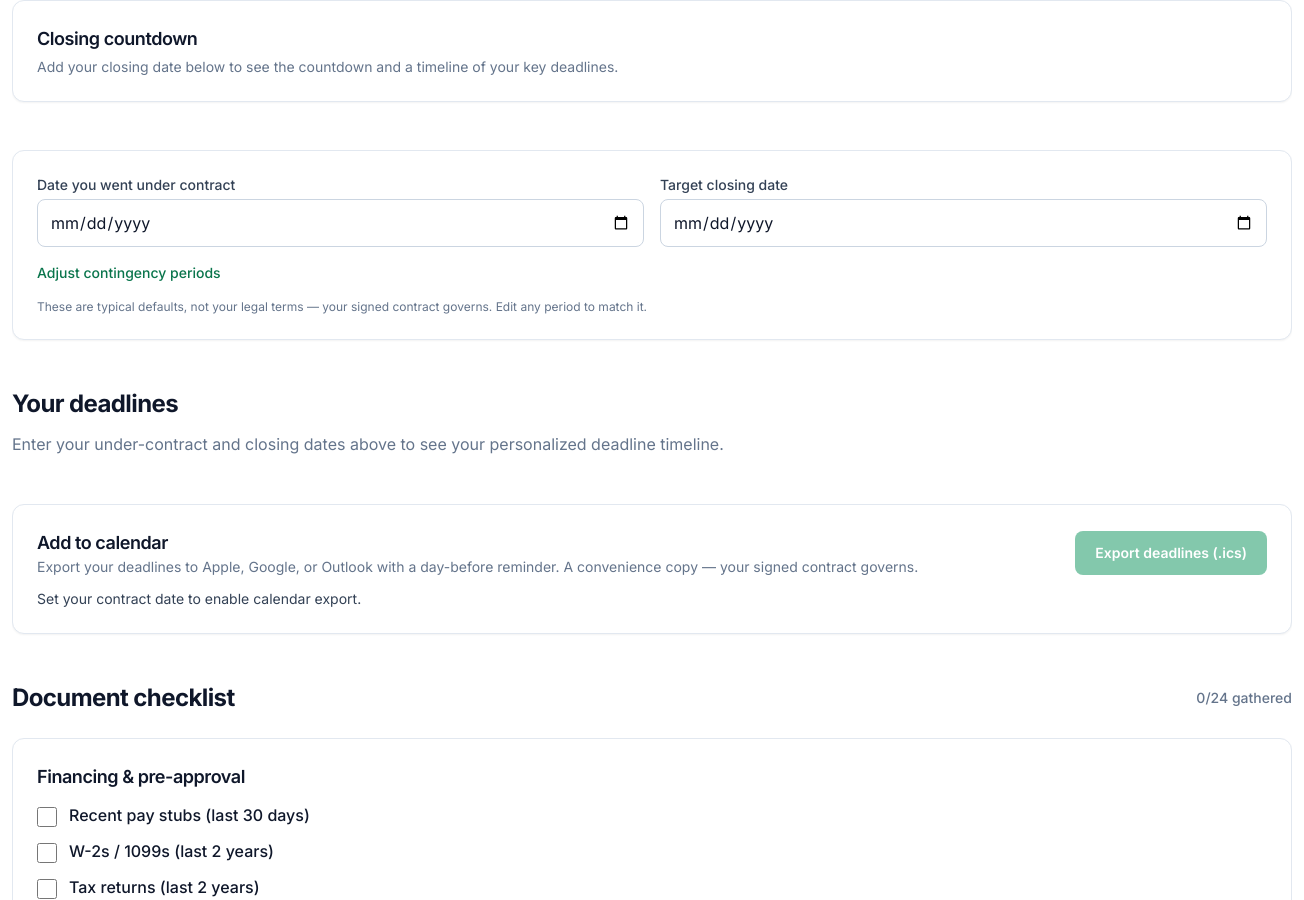
Test: TrackerApp › builds the deadline timeline once both ordered dates are set
Expected: the text "Enter your under-contract and closing dates above" is shown, [12,434,724,454]
Type "2026-07-01" into the date field labelled "Date you went under contract" at (340,223), box [37,199,644,247]
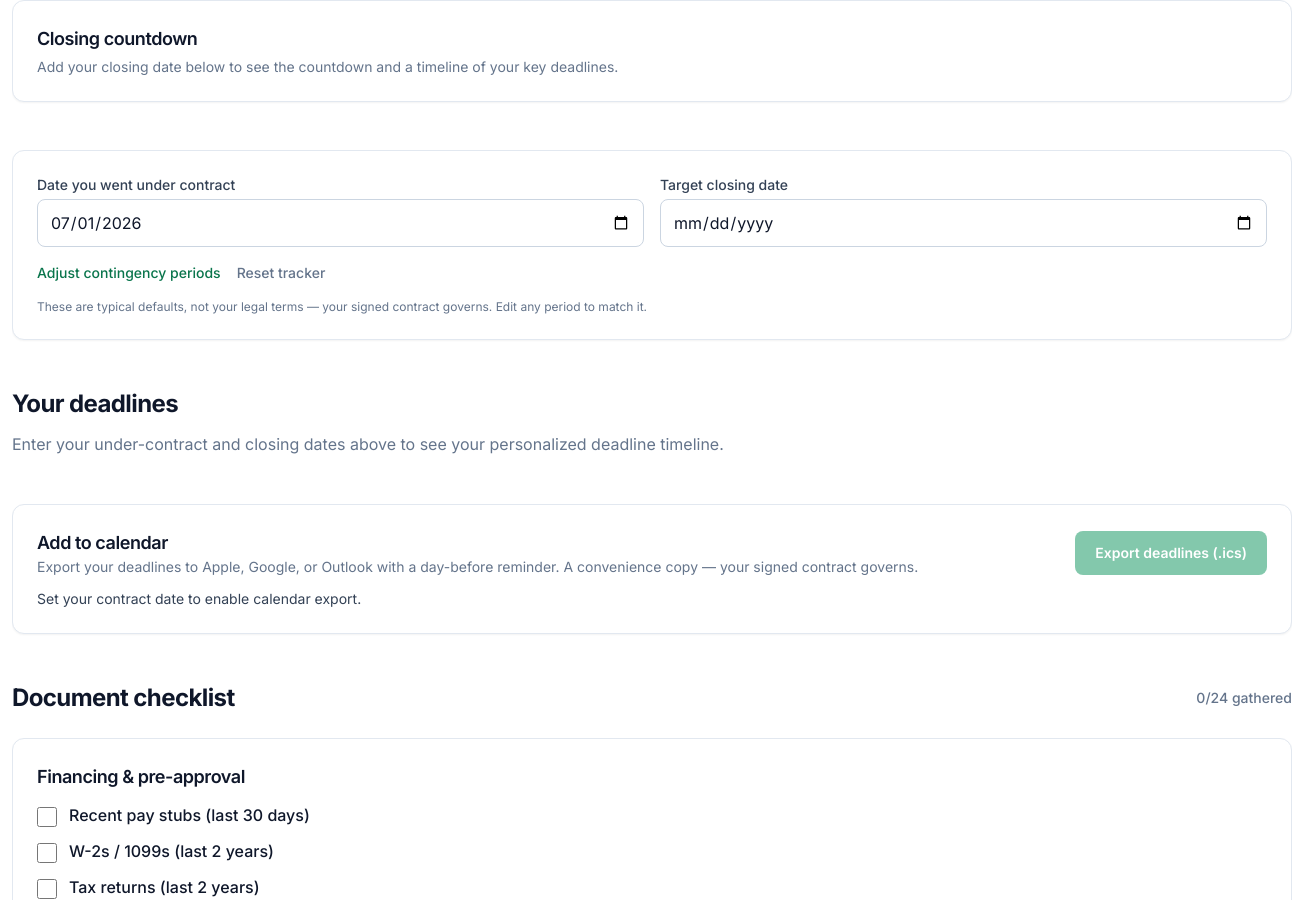
Type "2026-08-15" into the date field labelled "Target closing date" at (964,223), box [660,199,1267,247]
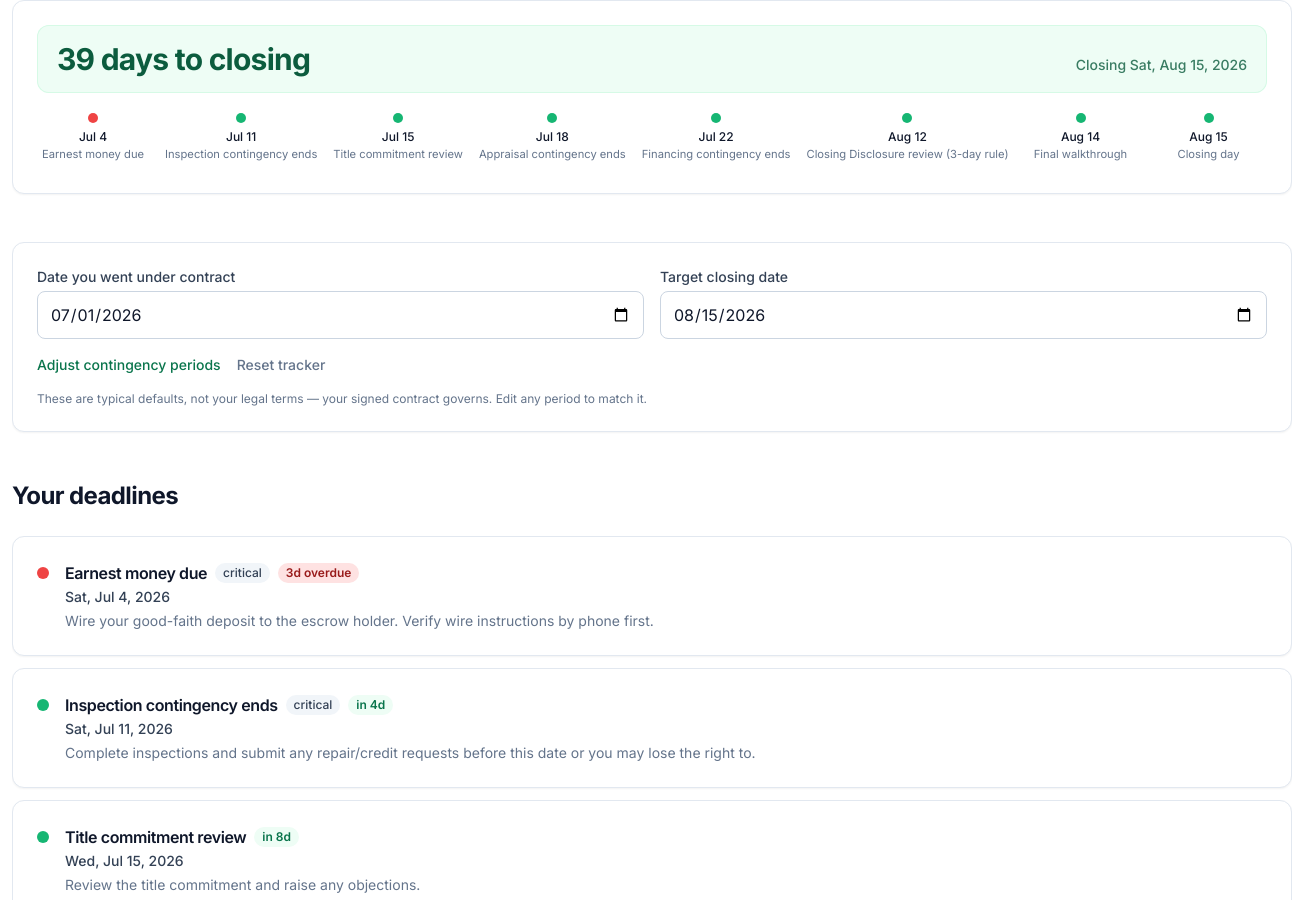
Result: the text "Enter your under-contract and closing dates above" is gone
